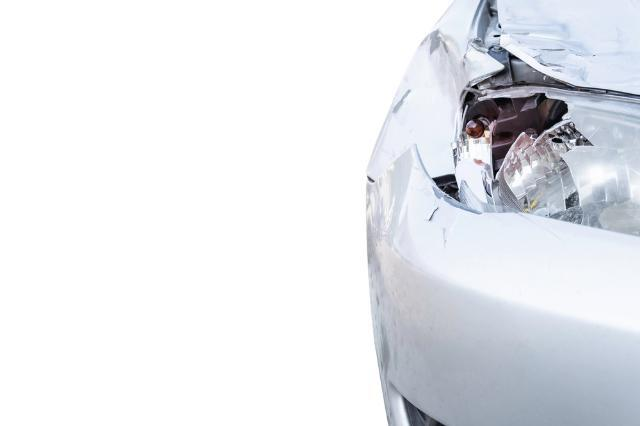dent: (368, 29, 460, 180), (497, 0, 585, 84)
lamp broken: (451, 81, 640, 238)
